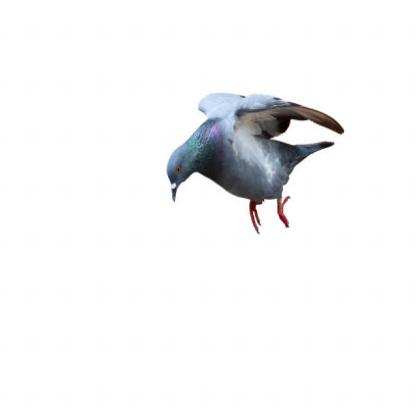Rock Pigeon: (164, 96, 340, 227)
